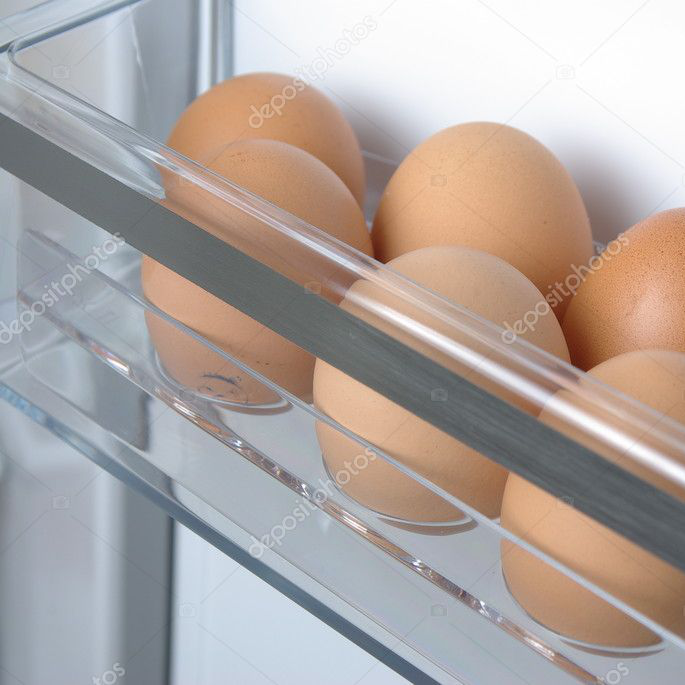egg: (141, 71, 685, 648)
